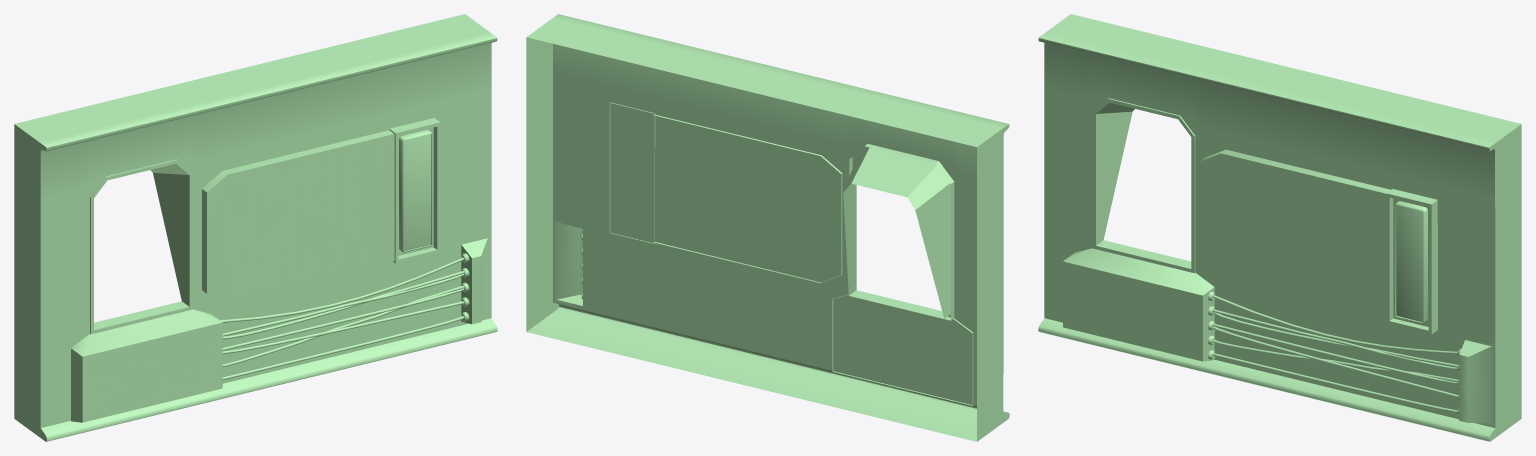
File: pared4.fbx
The picture shows the model from 3 angles, left to right: view 1: azimuth 30°, elevation 25°; view 2: azimuth 150°, elevation 25°; view 3: azimuth 330°, elevation 25°; orthographic projection.
Parts seen in each view (by area): view 1: 9; view 2: 9; view 3: 9.
Part boxes in pixels (x1,y1,x2,y2): 9: [14, 14, 497, 441]; 9: [526, 14, 1009, 441]; 9: [1038, 14, 1521, 441].
Bounding box in the file's own units: 400 × 250 × 58.55.
